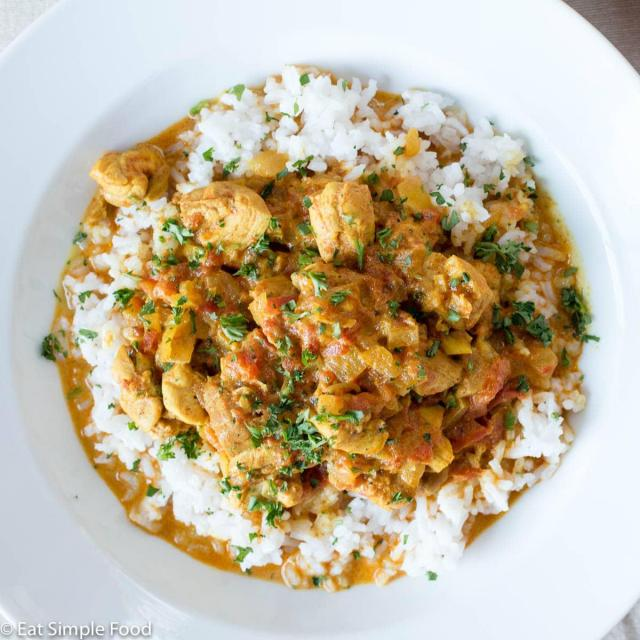chicken: (73, 68, 606, 574)
